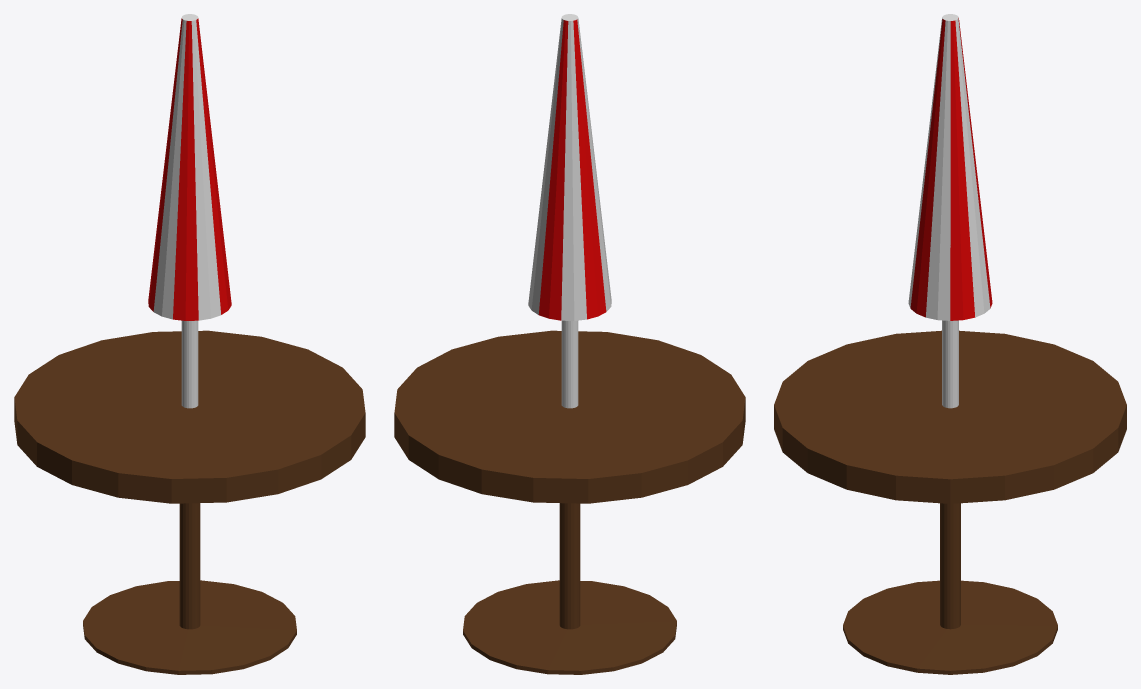
Rendered from MesaSombrillaCerrada.fbx.
3 views of the same model, side by side, from view 1: azimuth 30°, elevation 25°; view 2: azimuth 150°, elevation 25°; view 3: azimuth 270°, elevation 25° (orthographic).
Visible parts, largest first — view 1: Cilindro, Cilindro.001; view 2: Cilindro, Cilindro.001; view 3: Cilindro, Cilindro.001.
Part boxes in pixels (x1,y1,x2,y2): Cilindro: [14, 330, 365, 674]; Cilindro.001: [148, 14, 231, 408]; Cilindro: [394, 330, 745, 674]; Cilindro.001: [528, 14, 611, 408]; Cilindro: [774, 330, 1126, 674]; Cilindro.001: [908, 14, 992, 408].
Size of the model in its own units: 200 by 383 by 200.
